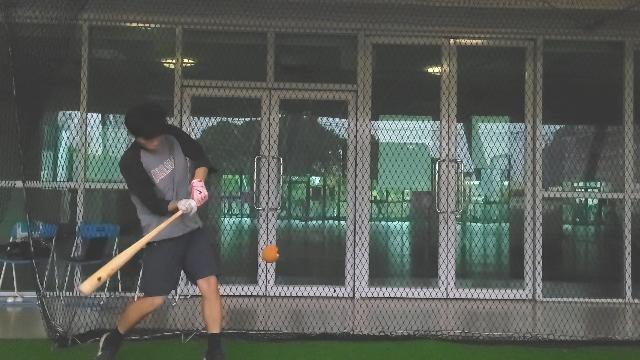bat: (80, 210, 184, 300)
